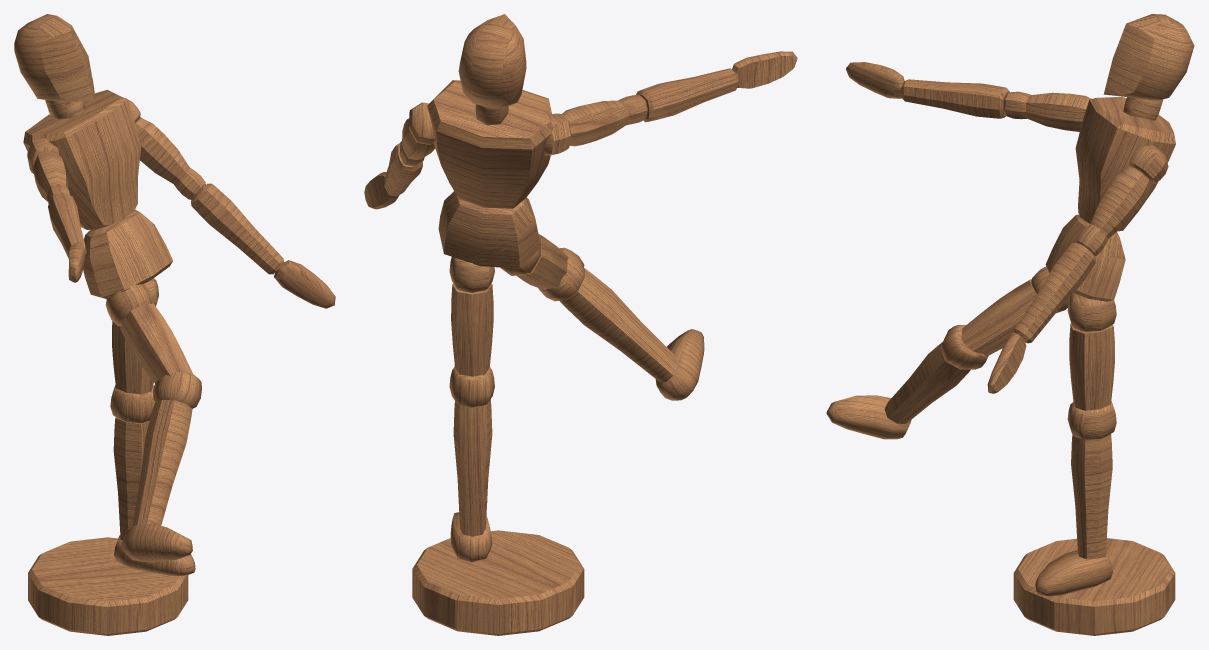
Rendered from SM_mannequin_06.fbx.
3 views of the same model, side by side, from view 1: azimuth 30°, elevation 25°; view 2: azimuth 150°, elevation 25°; view 3: azimuth 270°, elevation 25° (orthographic). The views are drawn at different scales.
Visible parts, largest first — view 1: mannequin01; view 2: mannequin01; view 3: mannequin01.
Part boxes in pixels (bbox=[...]): mannequin01: bbox=[14, 14, 335, 635]; mannequin01: bbox=[364, 14, 797, 635]; mannequin01: bbox=[826, 14, 1194, 635].
Size of the model in its own units: 10.15 by 16.6 by 9.67.
1 material, 1 textured.
